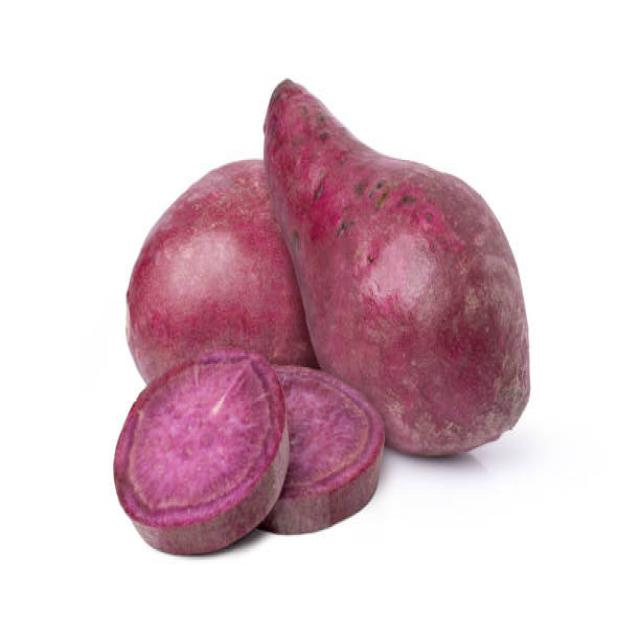Sweet Potato: (372, 154, 543, 454), (109, 348, 288, 557), (124, 149, 294, 357)
